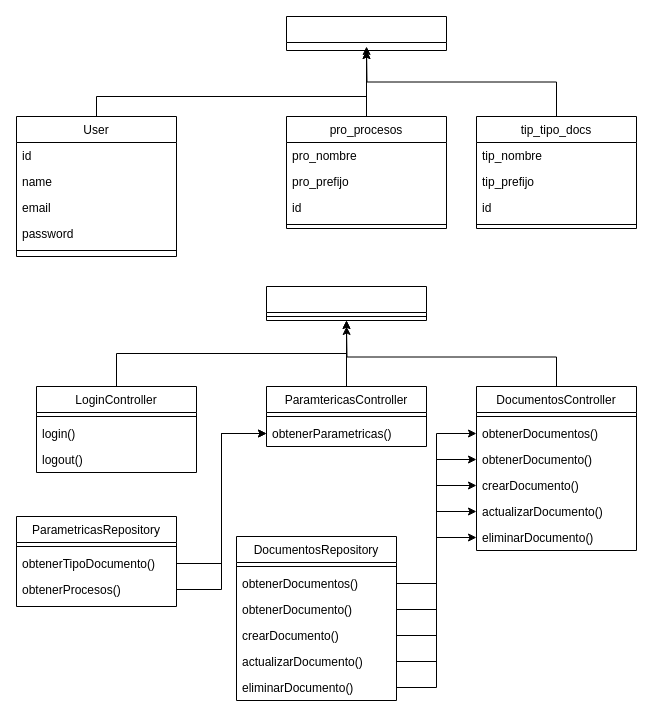
Image size: 653x717. Some labels were removed from this diagram. The centre of each missing label's shape, as x and y in pixels:
Controller: (346,303)
Migration: (366,33)
